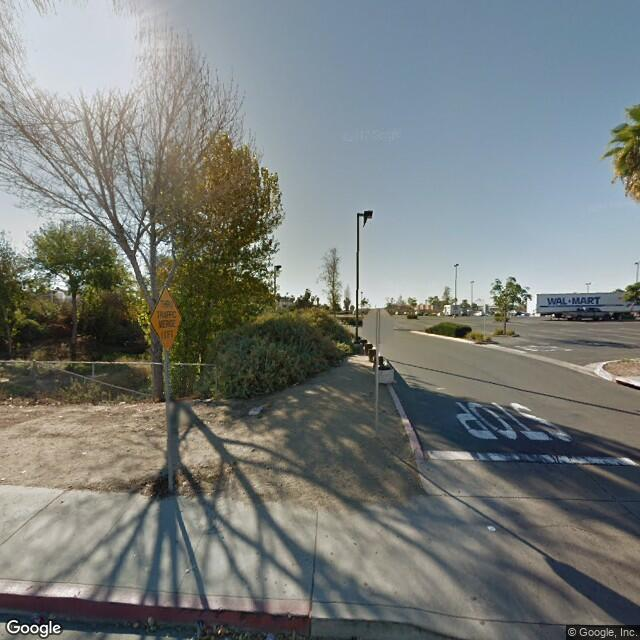litter: (226, 626, 258, 639), (33, 609, 62, 623), (195, 616, 208, 639), (195, 628, 224, 638), (248, 402, 268, 416), (146, 618, 159, 632), (484, 522, 499, 534), (259, 630, 277, 640), (131, 618, 146, 630), (196, 396, 215, 403), (6, 395, 16, 408), (115, 399, 129, 406), (20, 469, 28, 474), (1, 476, 8, 481), (79, 452, 89, 455)
